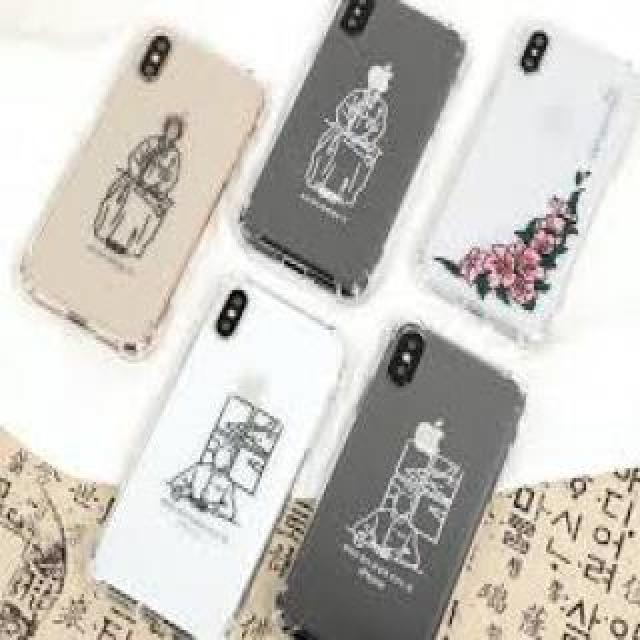smart phone: (100, 266, 302, 640), (334, 307, 538, 635), (232, 7, 472, 273), (28, 7, 220, 320), (500, 10, 607, 333)
